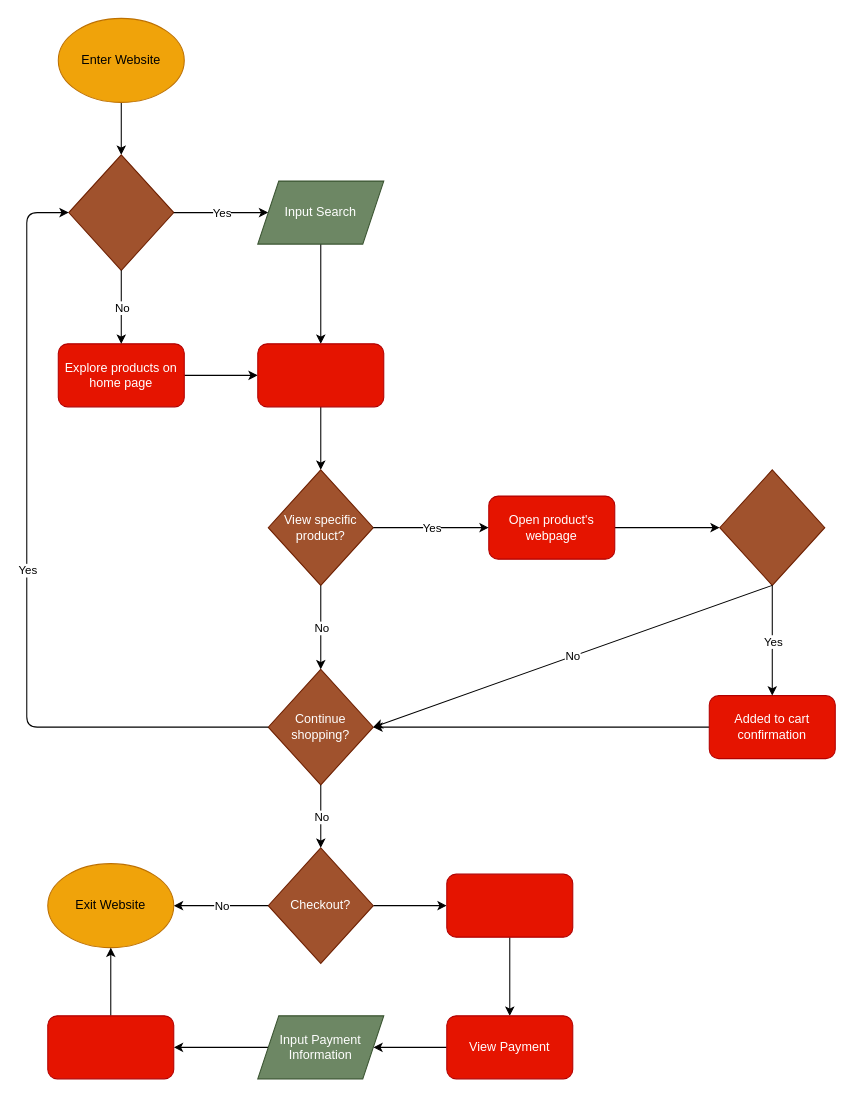
This 854x1097 diagram has some shape labels left out. The centre of each missing label's shape, as x and y in pixels:
"Add to cart?" goes at point (772, 527).
"Browse Products" goes at point (320, 375).
"Order Confirmation" goes at point (110, 1047).
"Search for a product?" goes at point (121, 212).
"View Cart" goes at point (509, 905).
